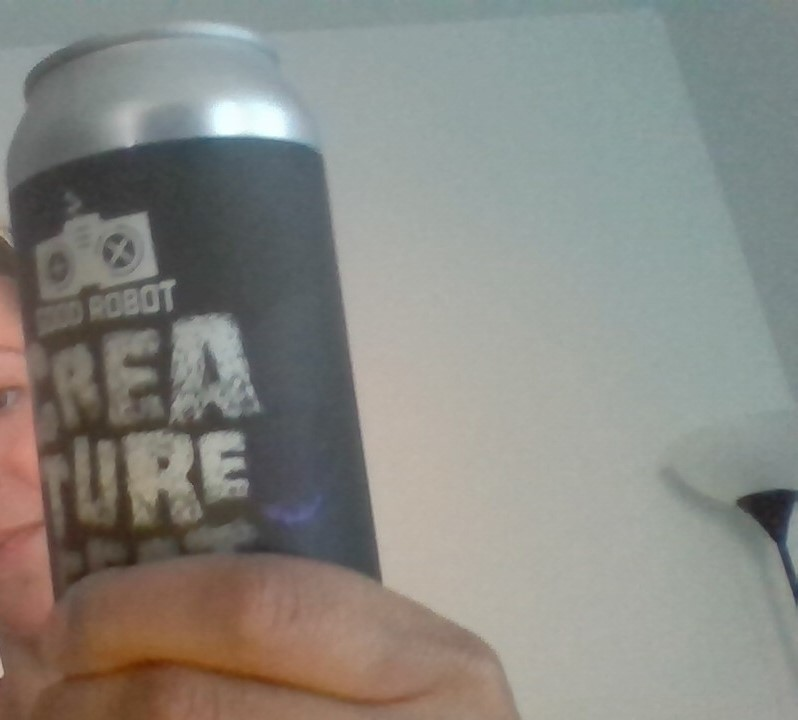Good Robot: (1, 179, 178, 304)
